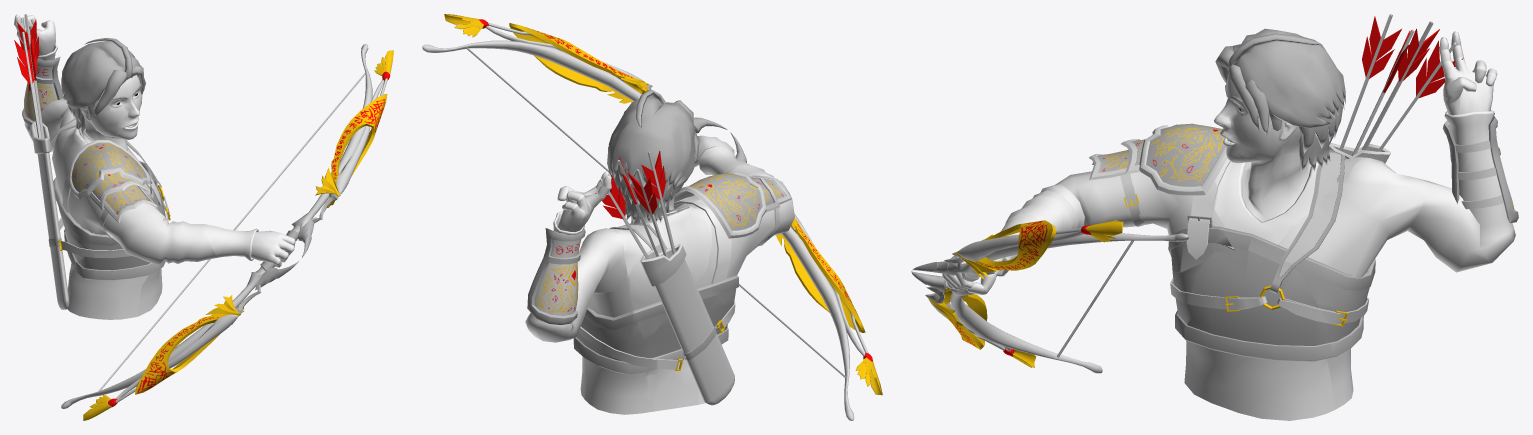
Rendered from longbow_shattered.fbx.
The picture shows the model from 3 angles, left to right: view 1: azimuth 30°, elevation 25°; view 2: azimuth 150°, elevation 25°; view 3: azimuth 270°, elevation 25°; orthographic projection. The views are drawn at different scales.
Visible parts, largest first — view 1: longbow_rightArm, longbow_rightHandHeldBow, longbow_upperBody, longbow_lowerBodyRightCut, longbow_quiver, longbow_bowTop, longbow_leftFlank, longbow_frontBody, longbow_bowString, longbow_lowerBodyBackCut; view 2: longbow_leftFlank, longbow_upperBody, longbow_quiver, longbow_rightArm, longbow_rightHandHeldBow, longbow_bowTop, longbow_lowerBodyBackCut; view 3: longbow_leftFlank, longbow_upperBody, longbow_frontBody, longbow_rightArm, longbow_quiver, longbow_rightHandHeldBow, longbow_bowTop, longbow_lowerBodyRightCut.
Boxes of the visible parts, x1=… form: longbow_rightArm: x1=58, y1=140, x2=215, y2=264; longbow_rightHandHeldBow: x1=61, y1=209, x2=324, y2=420; longbow_upperBody: x1=52, y1=38, x2=155, y2=202; longbow_lowerBodyRightCut: x1=67, y1=206, x2=162, y2=319; longbow_quiver: x1=14, y1=14, x2=124, y2=309; longbow_bowTop: x1=256, y1=43, x2=393, y2=212; longbow_leftFlank: x1=14, y1=14, x2=150, y2=241; longbow_frontBody: x1=137, y1=170, x2=170, y2=316; longbow_bowString: x1=111, y1=202, x2=257, y2=376; longbow_lowerBodyBackCut: x1=57, y1=203, x2=88, y2=283; longbow_leftFlank: x1=525, y1=172, x2=658, y2=414; longbow_upperBody: x1=607, y1=89, x2=712, y2=341; longbow_quiver: x1=595, y1=151, x2=735, y2=405; longbow_rightArm: x1=673, y1=164, x2=794, y2=300; longbow_rightHandHeldBow: x1=666, y1=102, x2=882, y2=420; longbow_bowTop: x1=422, y1=14, x2=652, y2=172; longbow_lowerBodyBackCut: x1=645, y1=294, x2=734, y2=411; longbow_leftFlank: x1=1266, y1=31, x2=1518, y2=409; longbow_upperBody: x1=1214, y1=28, x2=1364, y2=255; longbow_frontBody: x1=1181, y1=249, x2=1335, y2=420; longbow_rightArm: x1=1005, y1=123, x2=1236, y2=271; longbow_quiver: x1=1310, y1=14, x2=1463, y2=209; longbow_rightHandHeldBow: x1=911, y1=213, x2=1102, y2=373; longbow_bowTop: x1=952, y1=220, x2=1188, y2=287; longbow_lowerBodyRightCut: x1=1170, y1=262, x2=1204, y2=343.
Bounding box in the file's own units: 184 × 152 × 200.
